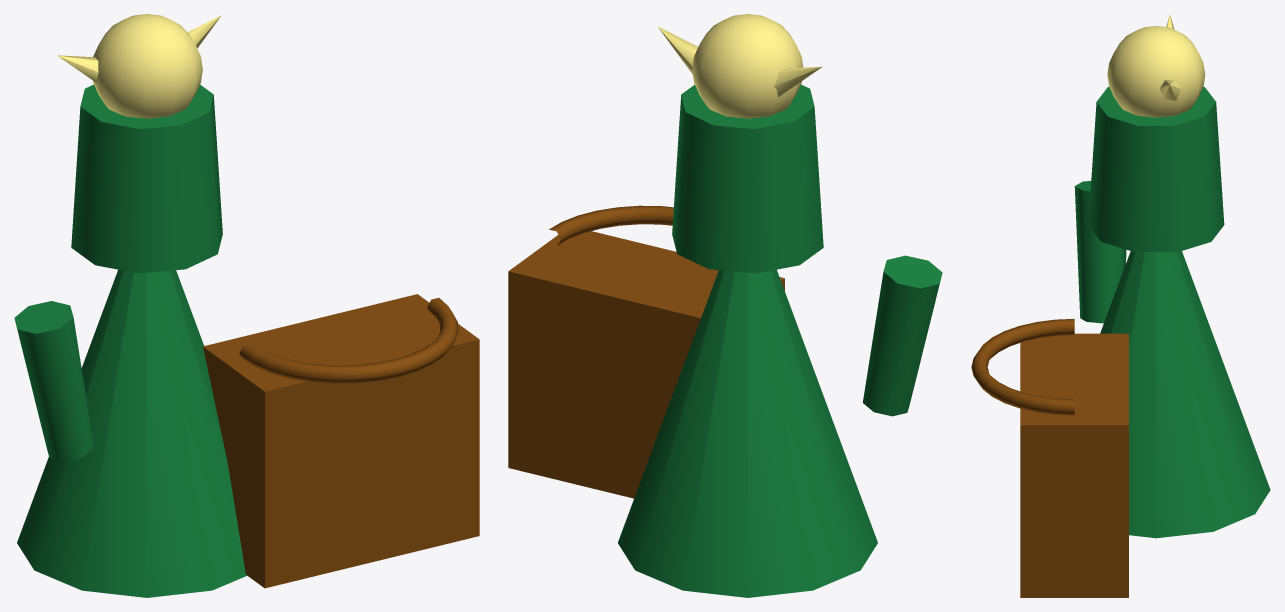
The model's file is npc_lala_craftswoman.glb.
The picture shows the model from 3 angles, left to right: view 1: azimuth 30°, elevation 25°; view 2: azimuth 150°, elevation 25°; view 3: azimuth 270°, elevation 25°; orthographic projection. The views are drawn at different scales.
Parts seen in each view (by area): view 1: NPC_ELF_LALA; view 2: NPC_ELF_LALA; view 3: NPC_ELF_LALA.
Boxes of the visible parts, x1,y1,x2,y2 form: NPC_ELF_LALA: [14, 14, 479, 597]; NPC_ELF_LALA: [508, 14, 942, 597]; NPC_ELF_LALA: [971, 14, 1270, 597].
Size of the model in its own units: 1.55 by 1.87 by 1.1.
